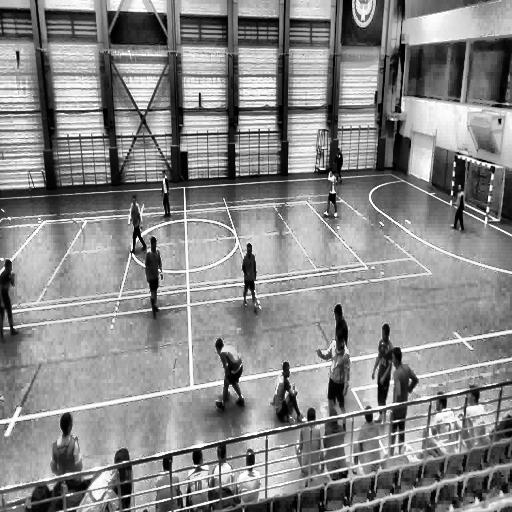ball: (226, 386, 232, 400)
player: (380, 348, 418, 444), (317, 323, 350, 430), (214, 336, 245, 414), (51, 413, 82, 491), (295, 405, 323, 489), (272, 360, 301, 430), (0, 258, 19, 340), (145, 236, 163, 318), (128, 197, 147, 252), (243, 243, 258, 312), (322, 166, 338, 218), (450, 181, 465, 231), (162, 169, 172, 218), (333, 147, 345, 186)
